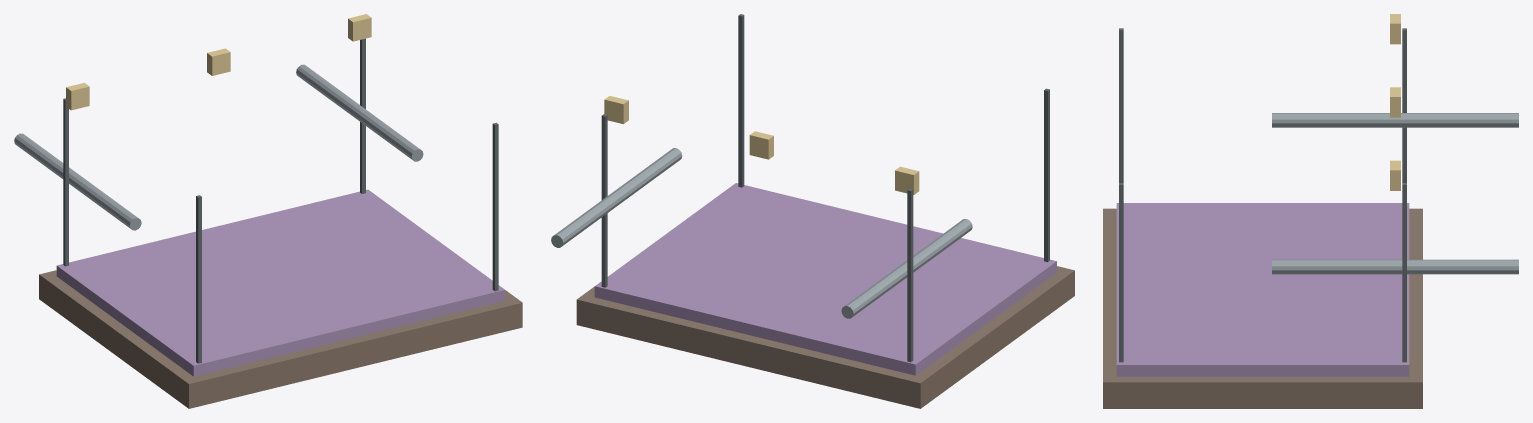
File: performance_stage.glb
3 views of the same model, side by side, from view 1: azimuth 30°, elevation 25°; view 2: azimuth 150°, elevation 25°; view 3: azimuth 270°, elevation 25° (orthographic). The views are drawn at different scales.
Parts seen in each view (by area): view 1: part_01, part_00, part_03, part_02, part_10, part_08, part_07, part_09, part_04, part_06, part_05; view 2: part_01, part_00, part_03, part_02, part_10, part_07, part_09, part_08, part_05, part_06, part_04; view 3: part_01, part_00, part_03, part_02, part_09, part_10, part_08, part_07.
Part boxes in pixels (box(x1,y1,x2,y2)): part_01: box(56, 189, 505, 376); part_00: box(39, 270, 522, 408); part_03: box(296, 64, 423, 161); part_02: box(14, 133, 141, 230); part_10: box(492, 122, 498, 291); part_08: box(196, 195, 201, 363); part_07: box(63, 98, 68, 266); part_09: box(360, 38, 365, 193); part_04: box(66, 83, 89, 110); part_06: box(348, 14, 371, 41); part_05: box(207, 48, 230, 75); part_01: box(594, 183, 1056, 375); part_00: box(576, 266, 1074, 408); part_03: box(551, 148, 682, 247); part_02: box(841, 219, 972, 318); part_10: box(738, 14, 744, 187); part_07: box(907, 188, 913, 362); part_09: box(601, 114, 607, 287); part_08: box(1044, 88, 1049, 262); part_05: box(749, 131, 773, 159); part_06: box(604, 96, 628, 124); part_04: box(895, 166, 919, 194); part_01: box(1116, 203, 1409, 376); part_00: box(1103, 208, 1422, 408); part_03: box(1272, 259, 1518, 274); part_02: box(1272, 113, 1518, 127); part_09: box(1402, 183, 1406, 362); part_10: box(1119, 183, 1123, 362); part_08: box(1119, 28, 1123, 182); part_07: box(1402, 28, 1406, 182).
Size of the model in its own units: 4.5 by 2.78 by 4.55.
